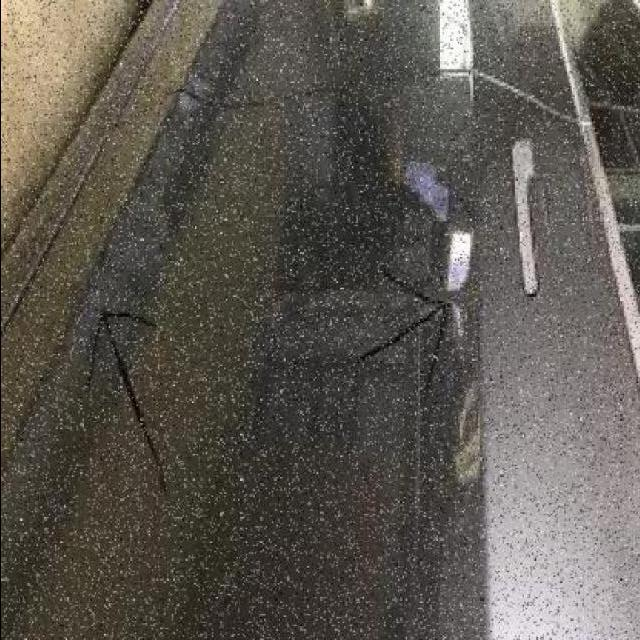doorouter-dent: (29, 89, 583, 633)
